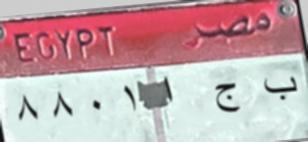0: (87, 92, 107, 117)
1: (119, 82, 142, 119)
8: (49, 90, 75, 123), (14, 95, 39, 124)
alif: (158, 75, 177, 108)
baa: (257, 67, 300, 108)
jeem: (210, 79, 243, 118)
